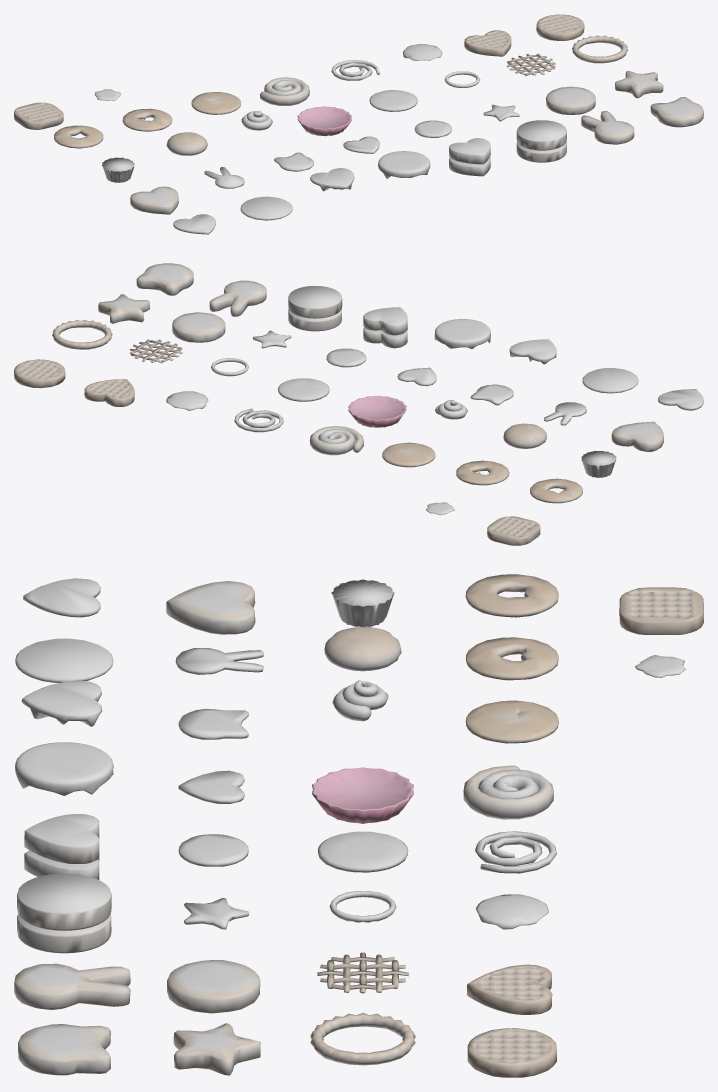
The model's file is prp_treats_bases_lite.glb.
The picture shows the model from 3 angles, top to bottom: view 1: azimuth 30°, elevation 25°; view 2: azimuth 150°, elevation 25°; view 3: azimuth 270°, elevation 25°; orthographic projection. The views are drawn at different scales.
Visible parts, largest first — view 1: INST_prp_treats_bases_lite_cake_sponge_round, INST_prp_treats_bases_lite_cake_sponge_heart, INST_prp_treats_bases_lite_pie_dish, INST_prp_treats_bases_lite_cookie_cat, INST_prp_treats_bases_lite_cake_frost_round, INST_prp_treats_bases_lite_cookie_round, INST_prp_treats_bases_lite_cookie_bunny, INST_prp_treats_bases_lite_roll_dough, INST_prp_treats_bases_lite_waffle_square, INST_prp_treats_bases_lite_cookie_heart, INST_prp_treats_bases_lite_waffle_round, INST_prp_treats_bases_lite_cake_cream_round (+20 smaller); view 2: INST_prp_treats_bases_lite_cake_sponge_round, INST_prp_treats_bases_lite_cake_sponge_heart, INST_prp_treats_bases_lite_pie_dish, INST_prp_treats_bases_lite_cookie_cat, INST_prp_treats_bases_lite_cake_frost_round, INST_prp_treats_bases_lite_cookie_round, INST_prp_treats_bases_lite_cookie_bunny, INST_prp_treats_bases_lite_roll_dough, INST_prp_treats_bases_lite_waffle_square, INST_prp_treats_bases_lite_cookie_heart, INST_prp_treats_bases_lite_waffle_round, INST_prp_treats_bases_lite_cake_cream_round (+19 smaller); view 3: INST_prp_treats_bases_lite_cake_sponge_round, INST_prp_treats_bases_lite_cookie_bunny, INST_prp_treats_bases_lite_pie_dish, INST_prp_treats_bases_lite_cake_sponge_heart, INST_prp_treats_bases_lite_cookie_cat, INST_prp_treats_bases_lite_cake_frost_round, INST_prp_treats_bases_lite_cookie_round, INST_prp_treats_bases_lite_roll_dough, INST_prp_treats_bases_lite_cookie_heart, INST_prp_treats_bases_lite_waffle_round, INST_prp_treats_bases_lite_waffle_square, INST_prp_treats_bases_lite_cake_cream_round (+22 smaller).
Part boxes in pixels (x1,y1,x2,y2): INST_prp_treats_bases_lite_cake_sponge_round: (516, 120, 566, 162); INST_prp_treats_bases_lite_cake_sponge_heart: (449, 138, 490, 176); INST_prp_treats_bases_lite_pie_dish: (297, 106, 351, 136); INST_prp_treats_bases_lite_cookie_cat: (650, 97, 703, 127); INST_prp_treats_bases_lite_cake_frost_round: (378, 151, 430, 178); INST_prp_treats_bases_lite_cookie_round: (546, 86, 595, 114); INST_prp_treats_bases_lite_cookie_bunny: (581, 110, 634, 144); INST_prp_treats_bases_lite_roll_dough: (260, 77, 309, 105); INST_prp_treats_bases_lite_waffle_square: (14, 102, 63, 129); INST_prp_treats_bases_lite_cookie_heart: (130, 186, 178, 214); INST_prp_treats_bases_lite_waffle_round: (536, 14, 584, 40); INST_prp_treats_bases_lite_cake_cream_round: (240, 196, 292, 220); INST_prp_treats_bases_lite_cake_sponge_round: (288, 286, 342, 331); INST_prp_treats_bases_lite_cake_sponge_heart: (363, 307, 407, 348); INST_prp_treats_bases_lite_pie_dish: (348, 395, 406, 427); INST_prp_treats_bases_lite_cookie_cat: (136, 263, 193, 295); INST_prp_treats_bases_lite_cake_frost_round: (434, 319, 490, 348); INST_prp_treats_bases_lite_cookie_round: (172, 312, 225, 342); INST_prp_treats_bases_lite_cookie_bunny: (209, 280, 266, 316); INST_prp_treats_bases_lite_roll_dough: (309, 426, 363, 455); INST_prp_treats_bases_lite_waffle_square: (487, 516, 540, 545); INST_prp_treats_bases_lite_cookie_heart: (611, 421, 663, 451); INST_prp_treats_bases_lite_waffle_round: (14, 359, 65, 388); INST_prp_treats_bases_lite_cake_cream_round: (582, 368, 638, 393); INST_prp_treats_bases_lite_cake_sponge_round: (17, 873, 111, 953); INST_prp_treats_bases_lite_cookie_bunny: (14, 963, 130, 1009); INST_prp_treats_bases_lite_pie_dish: (312, 767, 413, 823); INST_prp_treats_bases_lite_cake_sponge_heart: (24, 814, 99, 879); INST_prp_treats_bases_lite_cookie_cat: (18, 1024, 110, 1075); INST_prp_treats_bases_lite_cake_frost_round: (15, 742, 113, 795); INST_prp_treats_bases_lite_cookie_round: (167, 960, 260, 1013); INST_prp_treats_bases_lite_roll_dough: (463, 765, 553, 819); INST_prp_treats_bases_lite_cookie_heart: (166, 581, 255, 634); INST_prp_treats_bases_lite_waffle_round: (467, 1028, 556, 1077); INST_prp_treats_bases_lite_waffle_square: (619, 587, 703, 634); INST_prp_treats_bases_lite_cake_cream_round: (15, 638, 113, 682).
Bounding box in the file's own units: 4.6 × 0.277 × 2.77.
